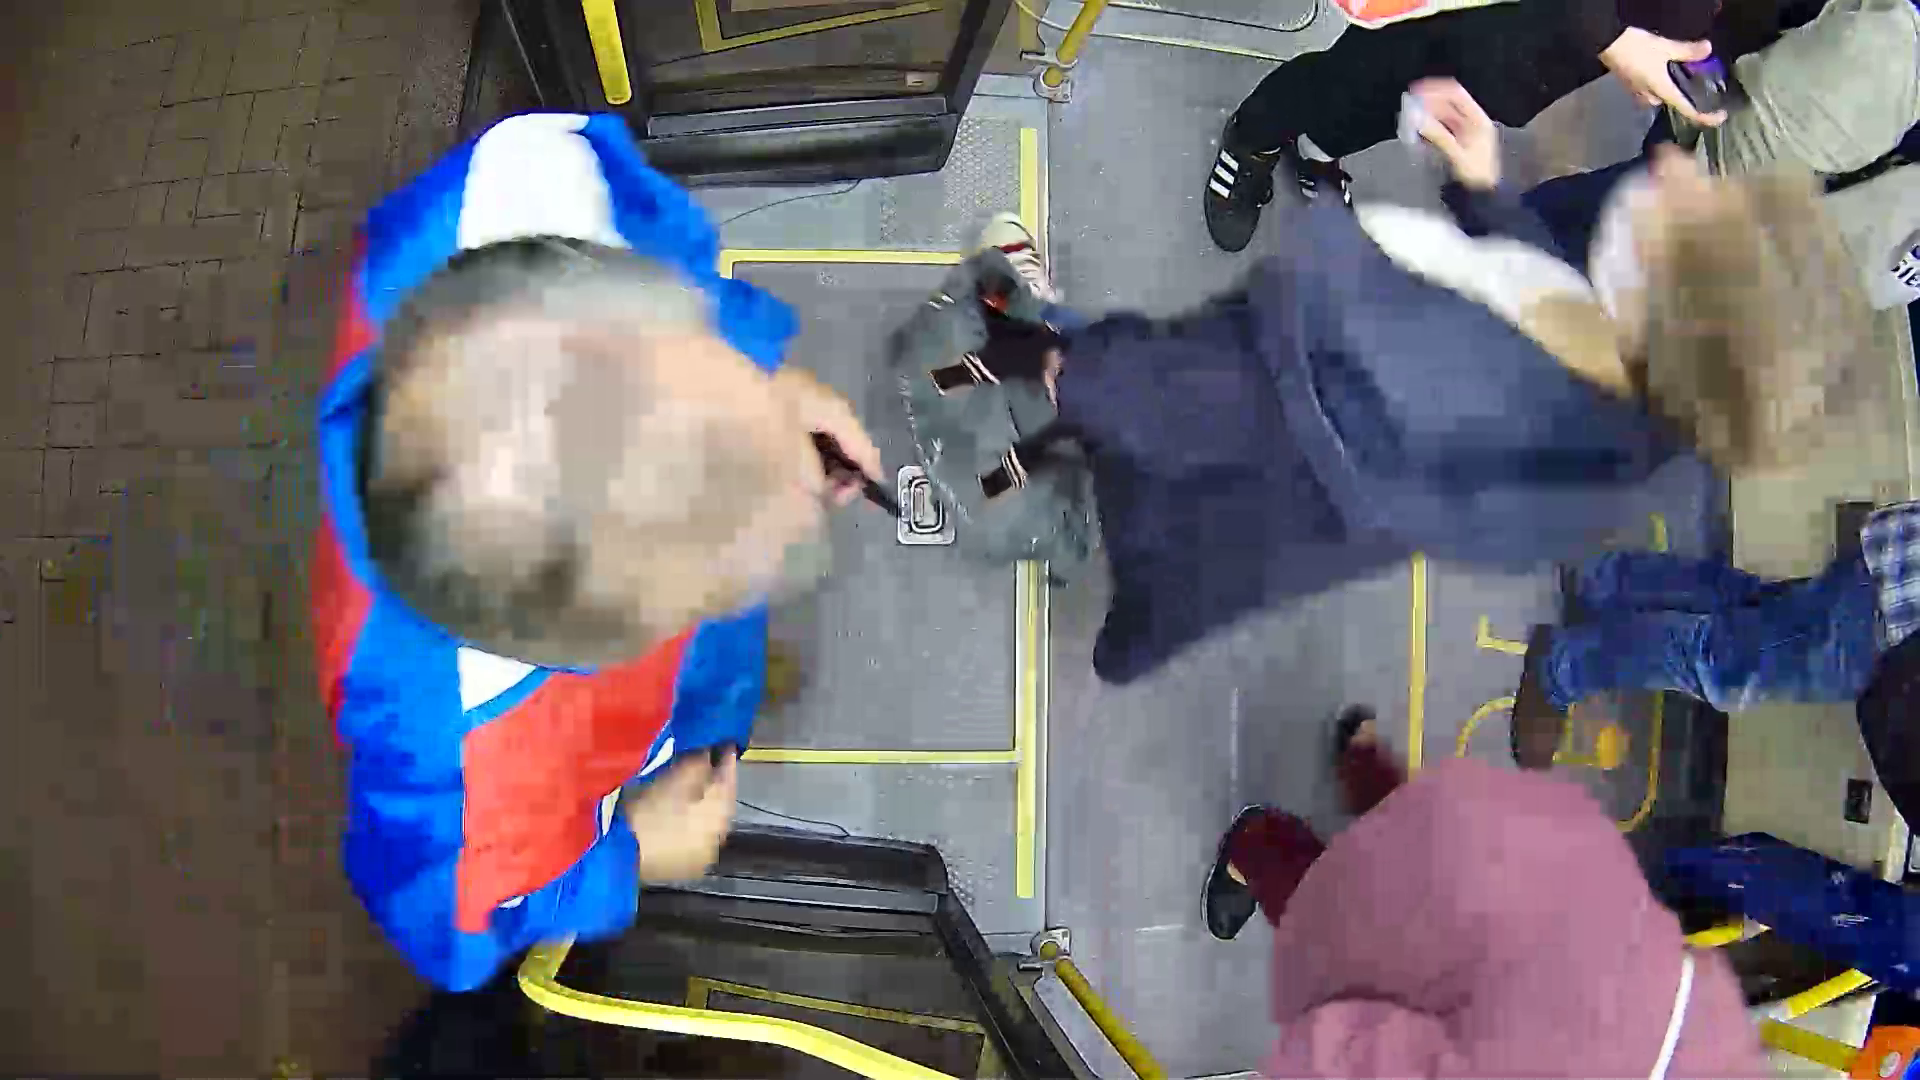person: (273, 104, 945, 913), (1011, 117, 1841, 636)
